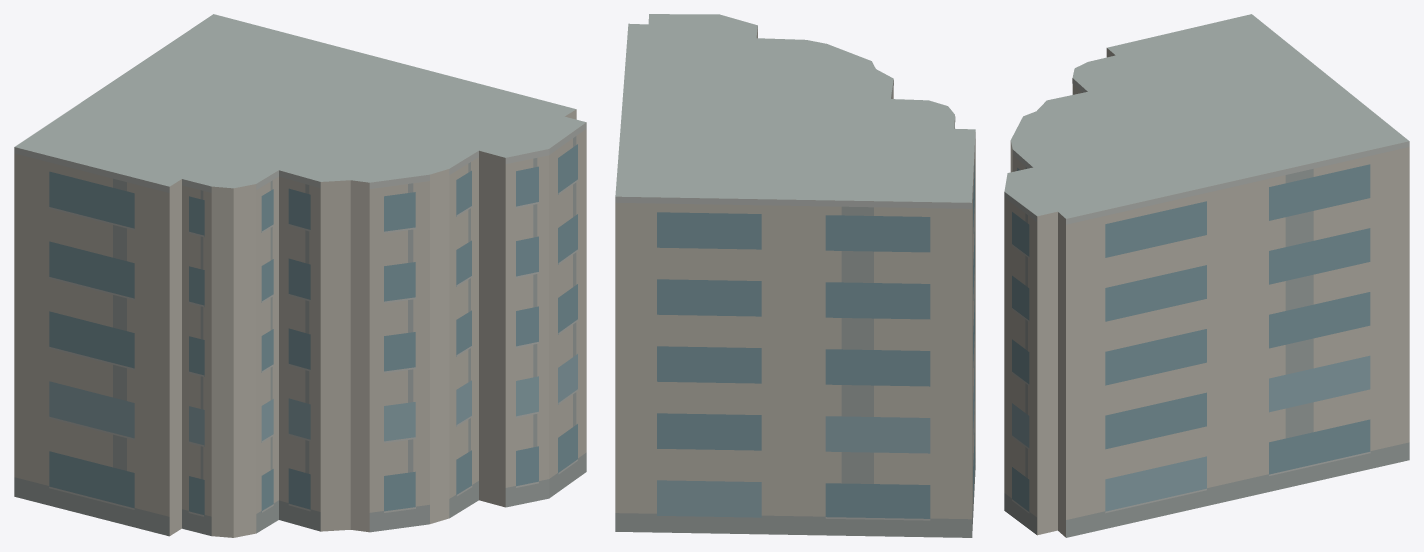
Rendered from survey-upis-32575417.glb.
The picture shows the model from 3 angles, left to right: view 1: azimuth 30°, elevation 25°; view 2: azimuth 150°, elevation 25°; view 3: azimuth 270°, elevation 25°; orthographic projection. The views are drawn at different scales.
Visible parts, largest first — view 1: survey-upis-32575417.tmp; view 2: survey-upis-32575417.tmp; view 3: survey-upis-32575417.tmp.
Boxes of the visible parts, x1=… form: survey-upis-32575417.tmp: x1=14, y1=14, x2=586, y2=537; survey-upis-32575417.tmp: x1=615, y1=14, x2=975, y2=537; survey-upis-32575417.tmp: x1=1004, y1=14, x2=1409, y2=537.
Size of the model in its own units: 18.41 by 13.35 by 15.38.
